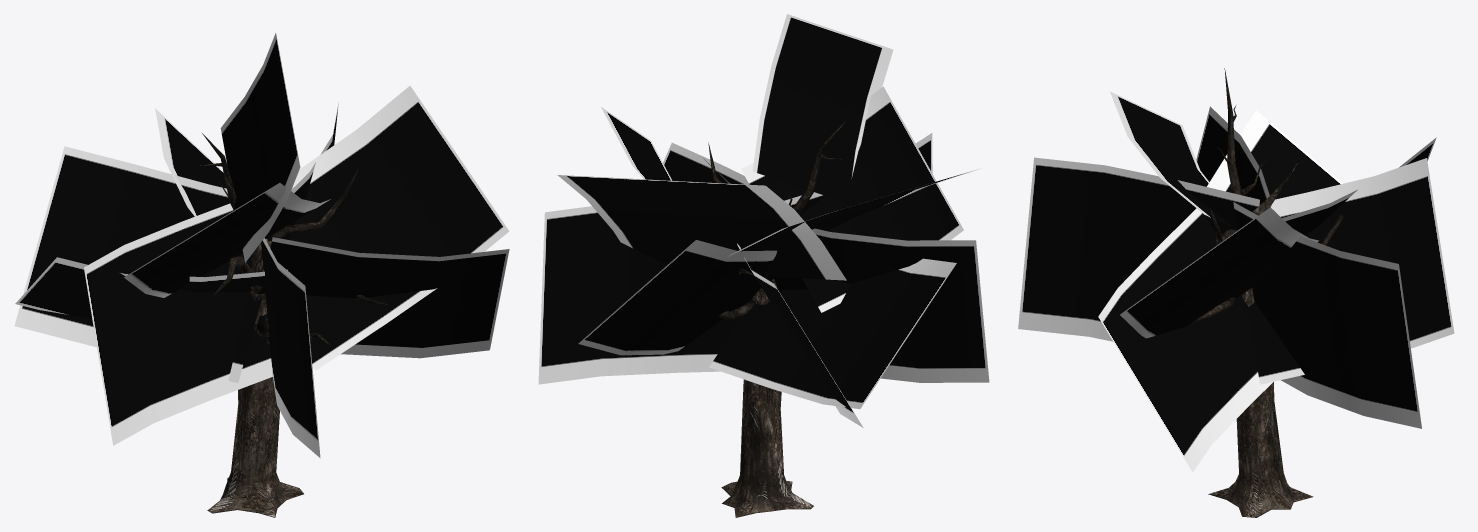
File: arbre_mort1.fbx
3 views of the same model, side by side, from view 1: azimuth 30°, elevation 25°; view 2: azimuth 150°, elevation 25°; view 3: azimuth 270°, elevation 25° (orthographic). The views are drawn at different scales.
Parts seen in each view (by area): view 1: polySurface712, polySurface714; view 2: polySurface712, polySurface714; view 3: polySurface712, polySurface714.
Boxes of the visible parts, x1=… form: polySurface712: x1=14, y1=33, x2=509, y2=458; polySurface714: x1=195, y1=133, x2=389, y2=517; polySurface712: x1=538, y1=14, x2=989, y2=427; polySurface714: x1=652, y1=120, x2=846, y2=517; polySurface712: x1=1018, y1=91, x2=1454, y2=472; polySurface714: x1=1111, y1=68, x2=1343, y2=517.
Size of the model in its own units: 1015 by 1169 by 980.
